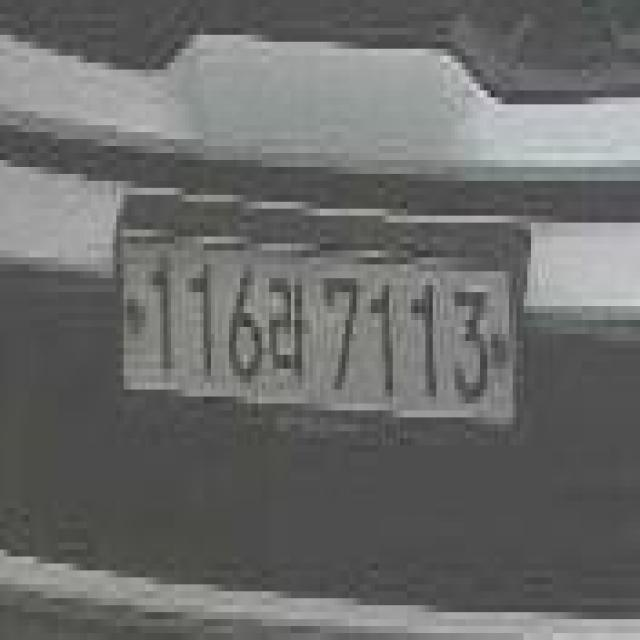illegal_plate: (117, 214, 531, 452)
